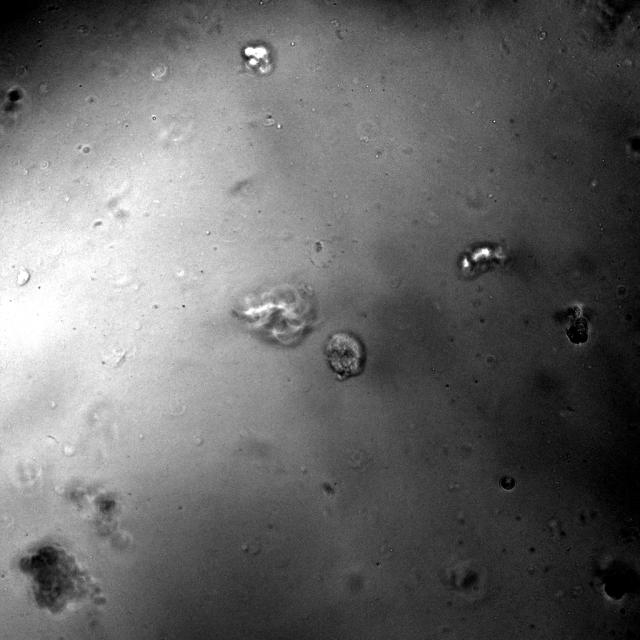organoid: (324, 331, 366, 380), (457, 241, 508, 280), (241, 41, 274, 75), (565, 306, 590, 345), (3, 88, 22, 112)
